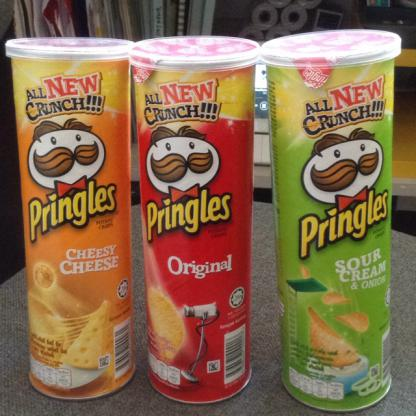potatochip: (262, 30, 400, 410), (0, 33, 139, 402), (128, 31, 260, 410)
